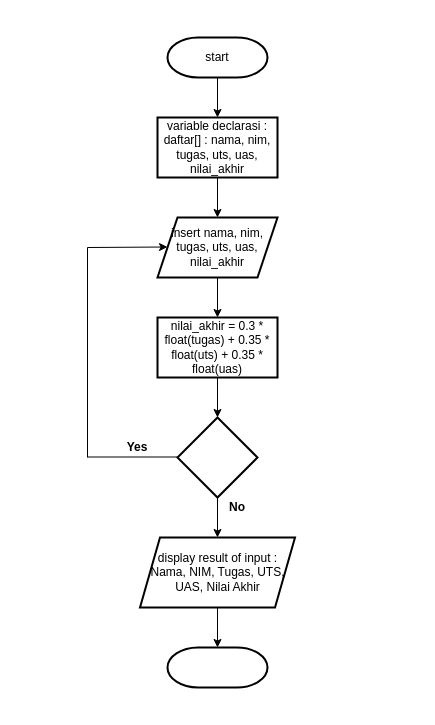
Some shapes in this 435 by 725 pixel diagram are drawn without their labels. Each missing label, with the centre of its shape:
add data ?: the point at 217,457
finish: the point at 217,667
